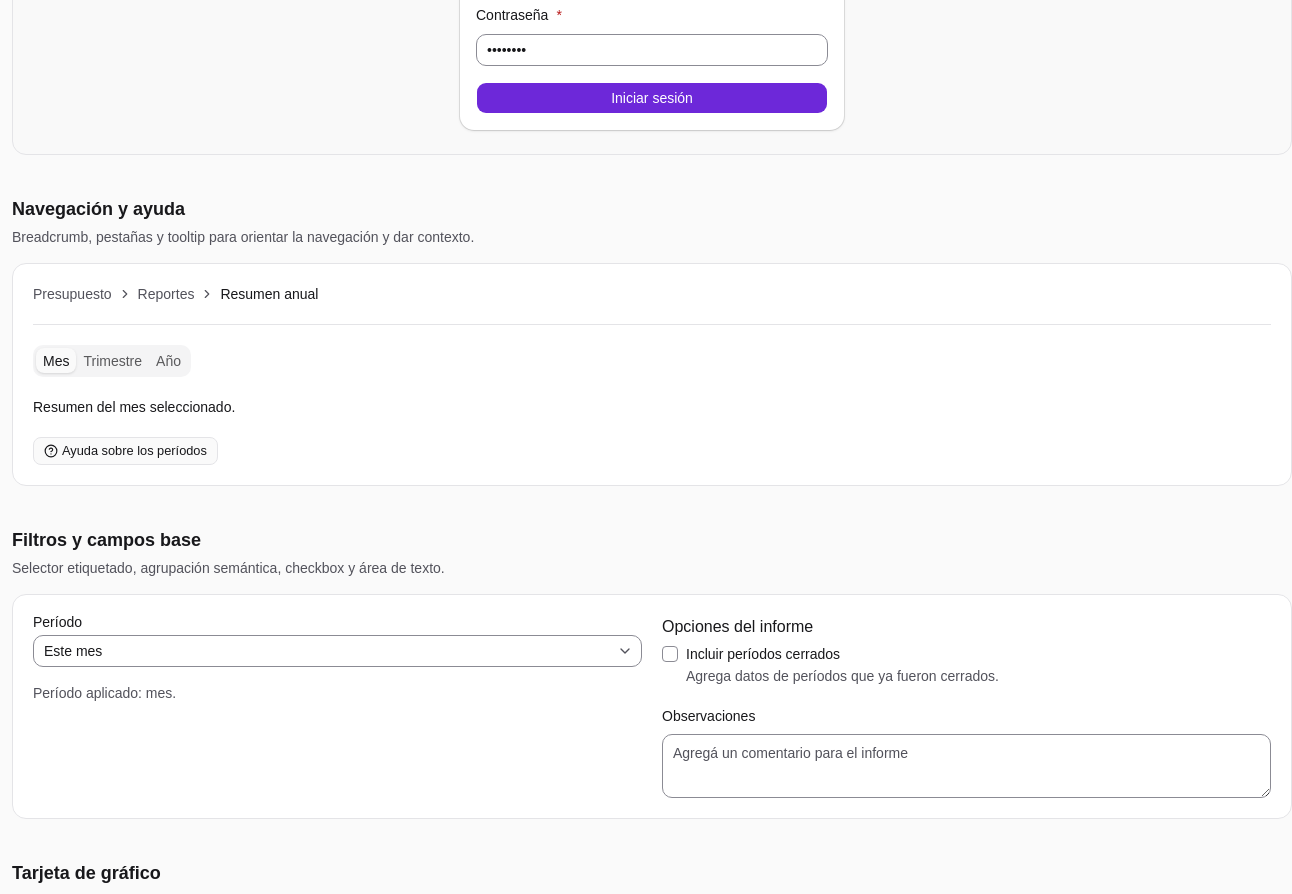
Scenario: UiGalleryPage › expone la ayuda del tooltip en hover y la vincula con su disparador
(page scrolled)
Hover over the button "Ayuda sobre los períodos" at (125, 450), box left=33, top=436, right=218, bottom=464
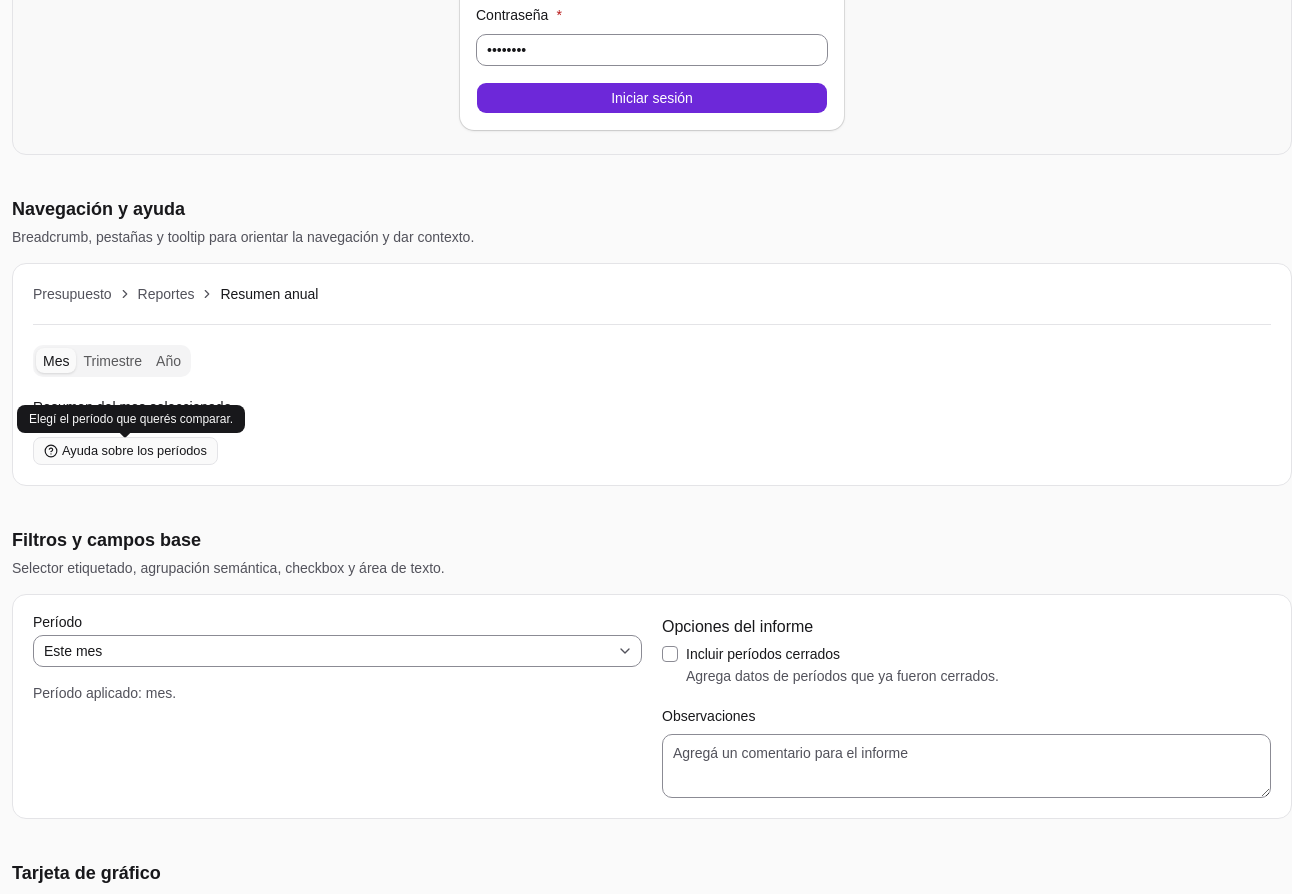
Expected: the tooltip reads "Elegí el período que querés comparar.", left=29, top=412, right=233, bottom=426
